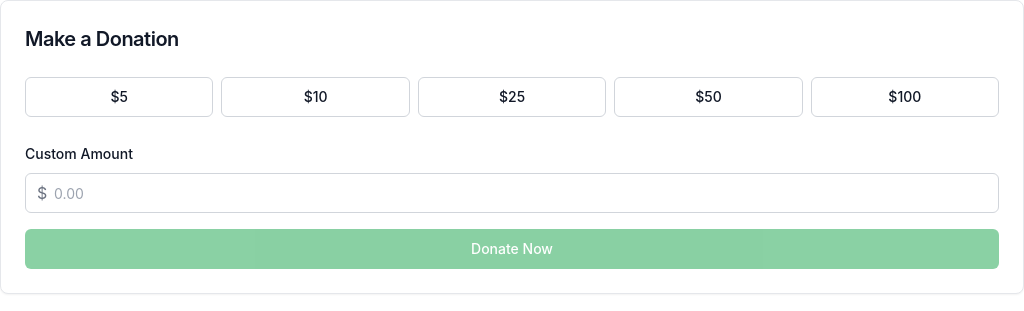
Test: DonationForm › should set amount when quick button is clicked
This screenshot has width=1024, height=311.
Click the button "$25" at (512, 97), box [418,77,606,117]
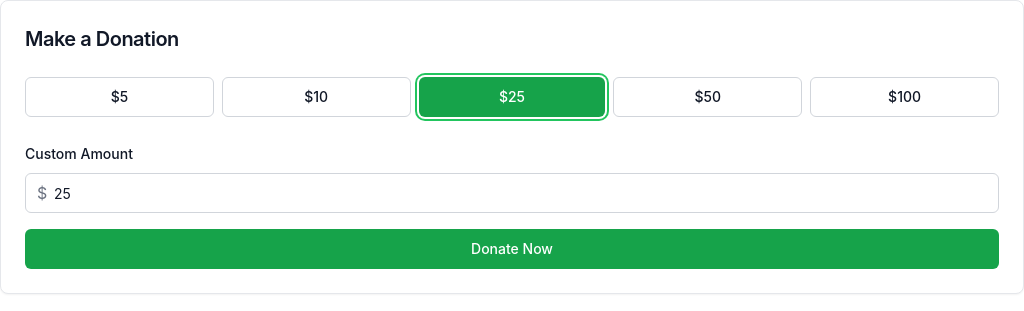
Check: the number field labelled "Custom Amount" holds "25", box [25,173,999,213]
